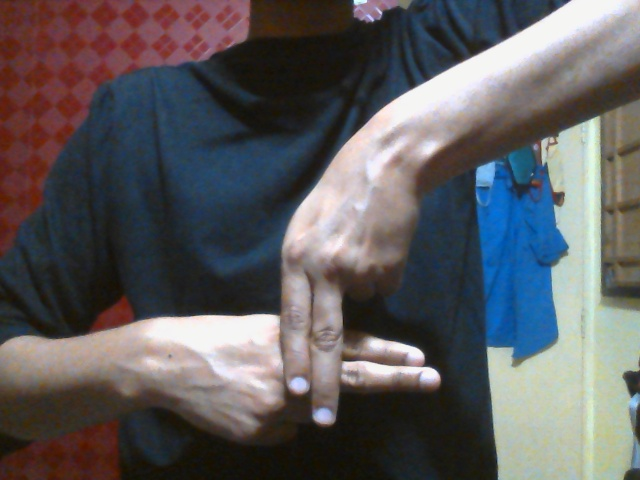F: (150, 161, 442, 449)
